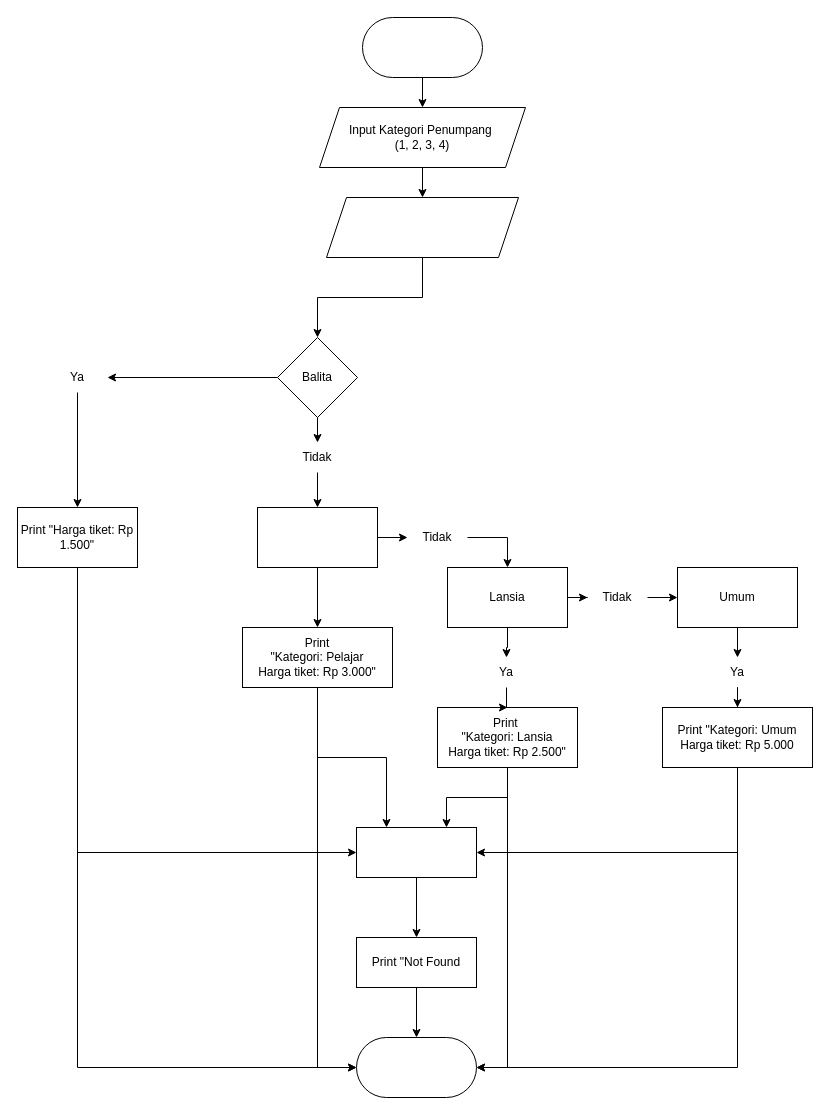
This 830x1115 diagram has some shape labels left out. Each missing label, with the centre of its shape:
"Input (Menentukan Harga)" goes at point (422, 227).
"Input Tidak Valid" goes at point (416, 852).
"Mulai" goes at point (422, 47).
"Pelajar/Mahasiswa" goes at point (317, 537).
"Selesai" goes at point (416, 1067).
